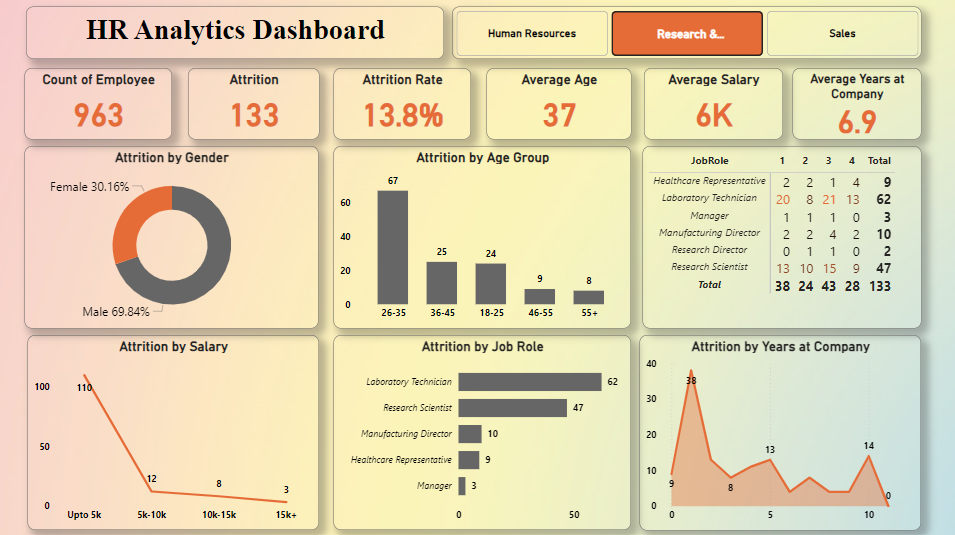

The dashboard page shown, as its layout file describes it:
{"tool":"powerbi","page":{"name":"Page 1","canvas":[1280,720],"ordinal":0},"visuals":[{"type":"card","title":"Count of Employee","fields":{"Values":["Sum(HR_Analytics.EmployeeCount)"]},"box":[38.3,91.7,196.7,95],"z":0},{"type":"card","title":"Average Salary","fields":{"Values":["Avg(HR_Analytics.MonthlyIncome)"]},"box":[863.3,91.7,185,95],"z":1000},{"type":"card","title":"Attrition","fields":{"Values":["Sum(HR_Analytics.AttritionCount)"]},"box":[255,91.7,175,95],"z":2000},{"type":"card","title":"Attrition Rate","fields":{"Values":["HR_Analytics.AttritionRate"]},"box":[450,91.7,183.3,95],"z":3000},{"type":"card","title":"Average Age","fields":{"Values":["Avg(HR_Analytics.Age)"]},"box":[653.3,91.7,193.3,95],"z":4000},{"type":"card","title":"Average Years at Company","fields":{"Values":["Avg(HR_Analytics.YearsAtCompany)"]},"box":[1061.7,91.7,171.7,95],"z":5000},{"type":"columnChart","title":"Attrition by Age Group","fields":{"Category":["HR_Analytics.AgeGroup"],"Y":["Sum(HR_Analytics.AttritionCount)"]},"box":[450,195,396.7,243.3],"z":6000},{"type":"pivotTable","fields":{"Rows":["HR_Analytics.JobRole"],"Values":["Sum(HR_Analytics.AttritionCount)"],"Columns":["HR_Analytics.JobSatisfaction"]},"box":[861.7,195,371.7,243.3],"z":7000},{"type":"lineChart","title":"Attrition by Salary","fields":{"Category":["HR_Analytics.SalarySlab"],"Y":["Sum(HR_Analytics.AttritionCount)"]},"box":[41.7,448.3,388.3,260],"z":8000},{"type":"barChart","title":"Attrition by Job Role","fields":{"Category":["HR_Analytics.JobRole"],"Y":["Sum(HR_Analytics.AttritionCount)"]},"box":[450,448.3,396.7,260],"z":9000},{"type":"areaChart","title":"Attrition by Years at Company","fields":{"Category":["HR_Analytics.YearsAtCompany"],"Y":["Sum(HR_Analytics.AttritionCount)"]},"box":[858.1,447.7,375.5,260.6],"z":10000},{"type":"donutChart","title":"Attrition by Gender","fields":{"Category":["HR_Analytics.Gender"],"Y":["Sum(HR_Analytics.AttritionCount)"]},"box":[38.3,195,391.7,243.3],"z":11000},{"type":"advancedSlicerVisual","fields":{"Values":["HR_Analytics.Department"]},"box":[608,9,626,70],"z":12000},{"type":"textbox","box":[40,9,557,70],"z":13000}]}

Visuals, with their boxes in screenshot pixels (x1, y1, x2, y2), scaled from the page's 1280x720 canvas onto the 955x535 screenshot:
"Count of Employee" card: [left=29, top=68, right=175, bottom=139]
"Average Salary" card: [left=644, top=68, right=782, bottom=139]
"Attrition" card: [left=190, top=68, right=321, bottom=139]
"Attrition Rate" card: [left=336, top=68, right=473, bottom=139]
"Average Age" card: [left=487, top=68, right=632, bottom=139]
"Average Years at Company" card: [left=792, top=68, right=920, bottom=139]
"Attrition by Age Group" columnChart: [left=336, top=145, right=632, bottom=326]
pivotTable - HR_Analytics.JobRole x Sum(HR_Analytics.AttritionCount): [left=643, top=145, right=920, bottom=326]
"Attrition by Salary" lineChart: [left=31, top=333, right=321, bottom=526]
"Attrition by Job Role" barChart: [left=336, top=333, right=632, bottom=526]
"Attrition by Years at Company" areaChart: [left=640, top=333, right=920, bottom=526]
"Attrition by Gender" donutChart: [left=29, top=145, right=321, bottom=326]
advancedSlicerVisual - HR_Analytics.Department: [left=454, top=7, right=921, bottom=59]
textbox: [left=30, top=7, right=445, bottom=59]
